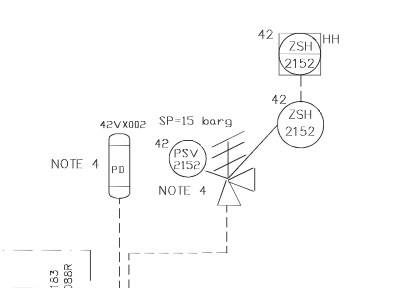Instrument: (270, 92, 327, 150), (154, 134, 209, 178)
Instrument-square: (255, 25, 323, 80)
